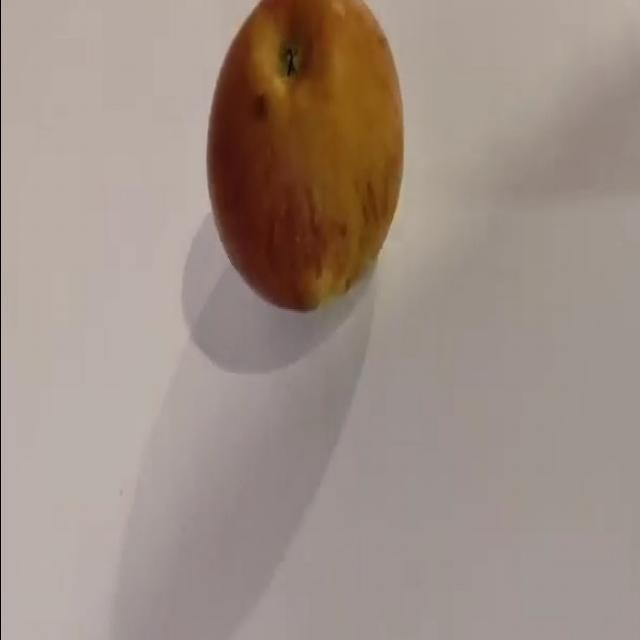Apple: (209, 0, 409, 310)
